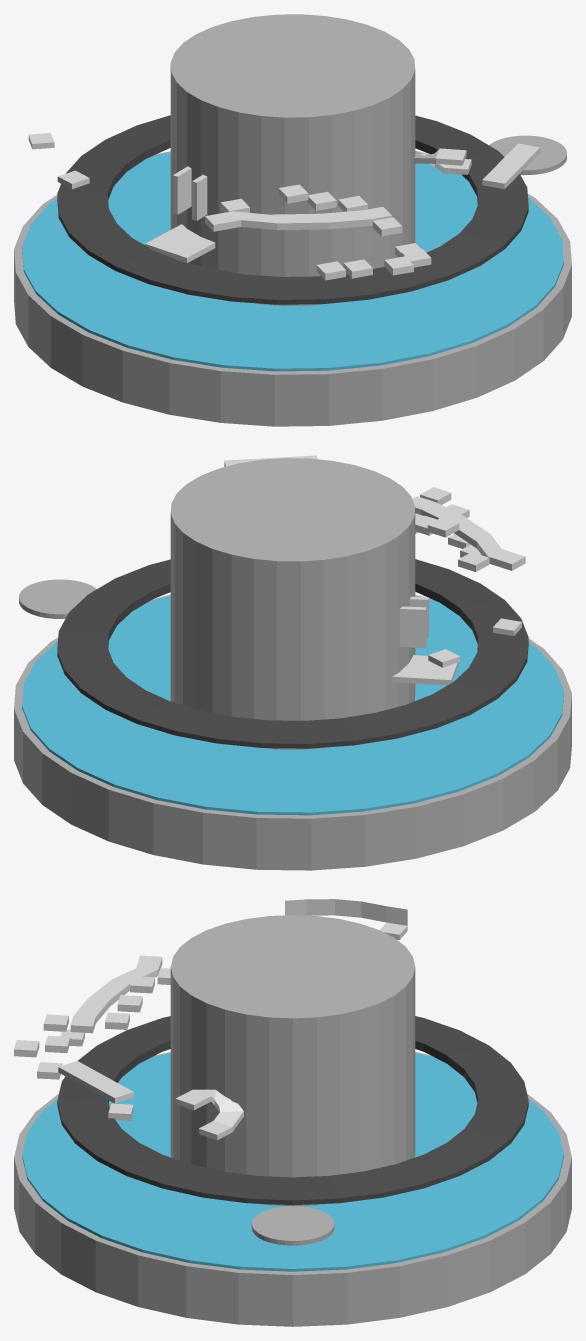
The model's file is Fountain.glb.
The picture shows the model from 3 angles, top to bottom: view 1: azimuth 30°, elevation 25°; view 2: azimuth 150°, elevation 25°; view 3: azimuth 270°, elevation 25°; orthographic projection.
Parts seen in each view (by area): view 1: Cylinder.002-col, Cylinder.001-col, Cylinder.003-col, Cylinder.004-col, Cube.008-col, Cylinder-col, Cube.013-col, Cube.016-col, Cube.001-col, Cube-col; view 2: Cylinder.002-col, Cylinder.001-col, Cylinder.003-col, Cylinder.004-col, Cylinder-col, Cube.008-col, Cube.016-col, Cube.013-col; view 3: Cylinder.002-col, Cylinder.001-col, Cylinder.003-col, Cylinder.004-col, Cylinder-col, Cube.008-col, Cube.018-col, Cube-col, Cube.001-col.
Boxes of the visible parts, box(x1,y1,x2,y2) form: Cylinder.002-col: box(170, 14, 415, 305); Cylinder.001-col: box(22, 152, 563, 371); Cylinder.003-col: box(14, 151, 571, 426); Cylinder.004-col: box(57, 115, 528, 304); Cube.008-col: box(205, 207, 391, 231); Cylinder-col: box(489, 135, 566, 175); Cube.013-col: box(145, 224, 215, 262); Cube.016-col: box(173, 166, 207, 220); Cube.001-col: box(482, 143, 540, 189); Cube-col: box(413, 148, 471, 174); Cylinder.002-col: box(170, 458, 415, 749); Cylinder.001-col: box(22, 596, 563, 815); Cylinder.003-col: box(14, 594, 571, 870); Cylinder.004-col: box(57, 559, 528, 748); Cylinder-col: box(19, 579, 96, 618); Cube.008-col: box(412, 496, 525, 570); Cube.016-col: box(399, 596, 428, 647); Cube.013-col: box(392, 655, 459, 685); Cylinder.002-col: box(170, 915, 415, 1206); Cylinder.001-col: box(22, 1053, 563, 1271); Cylinder.003-col: box(14, 1052, 571, 1326); Cylinder.004-col: box(57, 1016, 528, 1205); Cylinder-col: box(251, 1206, 334, 1245); Cube.008-col: box(70, 955, 162, 1033); Cube.018-col: box(285, 899, 407, 925); Cube-col: box(175, 1089, 243, 1140); Cube.001-col: box(58, 1061, 133, 1103).
Bounding box in the file's own units: 196 × 89.03 × 186.
